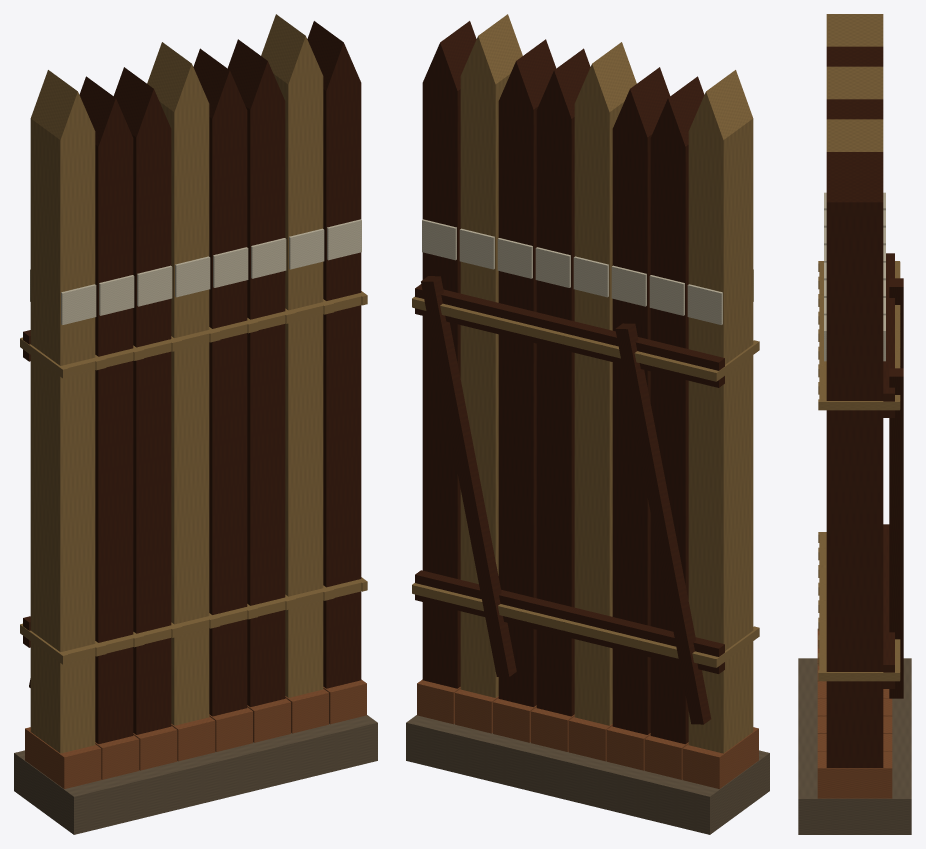
The model's file is Berber_Palisade_Age3_gapfill_2m.fbx.
3 renders of one model, left to right at view 1: azimuth 30°, elevation 25°; view 2: azimuth 150°, elevation 25°; view 3: azimuth 270°, elevation 25°, orthographic. The views are drawn at different scales.
Parts seen in each view (by area): view 1: palm_split_post.025, palm_split_post.024, palm_split_post.030, palm_split_post.027, palm_split_post.026, palm_split_post.031, palm_split_post.028, earth_seat.004, post_earth_socket.004, neutral_owner_band.004, front_lashing.004, lashing_side.004; view 2: palm_split_post.025, palm_split_post.024, palm_split_post.027, palm_split_post.028, palm_split_post.026, palm_split_post.030, palm_split_post.031, earth_seat.004, back_diagonal_brace.004, post_earth_socket.004, continuous_rear_tie.004, neutral_owner_band.004 (+2 smaller); view 3: palm_split_post.031, earth_seat.004, back_diagonal_brace.004, post_earth_socket.004, continuous_rear_tie.004, lashing_side.004, palm_split_post.027, palm_split_post.024, palm_split_post.030, front_lashing.004, palm_split_post.025, palm_split_post.028 (+2 smaller).
Part boxes in pixels (bbox=[...]): palm_split_post.025: bbox=[79, 39, 285, 744]; palm_split_post.024: bbox=[30, 70, 95, 753]; palm_split_post.030: bbox=[261, 14, 323, 697]; palm_split_post.027: bbox=[147, 42, 209, 725]; palm_split_post.026: bbox=[113, 67, 171, 734]; palm_split_post.031: bbox=[307, 21, 361, 688]; palm_split_post.028: bbox=[193, 48, 247, 716]; earth_seat.004: bbox=[14, 715, 377, 834]; post_earth_socket.004: bbox=[25, 679, 366, 788]; neutral_owner_band.004: bbox=[30, 219, 361, 324]; front_lashing.004: bbox=[61, 292, 365, 662]; lashing_side.004: bbox=[20, 291, 367, 664]; palm_split_post.025: bbox=[498, 39, 704, 744]; palm_split_post.024: bbox=[688, 70, 753, 753]; palm_split_post.027: bbox=[574, 42, 636, 725]; palm_split_post.028: bbox=[536, 48, 590, 716]; palm_split_post.026: bbox=[612, 67, 670, 734]; palm_split_post.030: bbox=[460, 14, 522, 697]; palm_split_post.031: bbox=[422, 21, 476, 688]; earth_seat.004: bbox=[406, 715, 769, 834]; back_diagonal_brace.004: bbox=[421, 276, 711, 724]; post_earth_socket.004: bbox=[417, 679, 758, 788]; continuous_rear_tie.004: bbox=[415, 284, 724, 673]; neutral_owner_band.004: bbox=[422, 219, 753, 324]; palm_split_post.031: bbox=[826, 152, 883, 767]; earth_seat.004: bbox=[798, 658, 911, 834]; back_diagonal_brace.004: bbox=[889, 278, 903, 698]; post_earth_socket.004: bbox=[817, 629, 892, 798]; continuous_rear_tie.004: bbox=[883, 253, 894, 688]; lashing_side.004: bbox=[818, 261, 899, 681]; palm_split_post.027: bbox=[826, 66, 883, 99]; palm_split_post.024: bbox=[826, 14, 883, 46]; palm_split_post.030: bbox=[826, 119, 883, 151]; front_lashing.004: bbox=[819, 261, 826, 670]; palm_split_post.025: bbox=[826, 46, 883, 119]; palm_split_post.028: bbox=[826, 99, 883, 116].
Bounding box in the file's own units: 201 × 458 × 68.29.
Materials: 5 (5 with a texture image).
